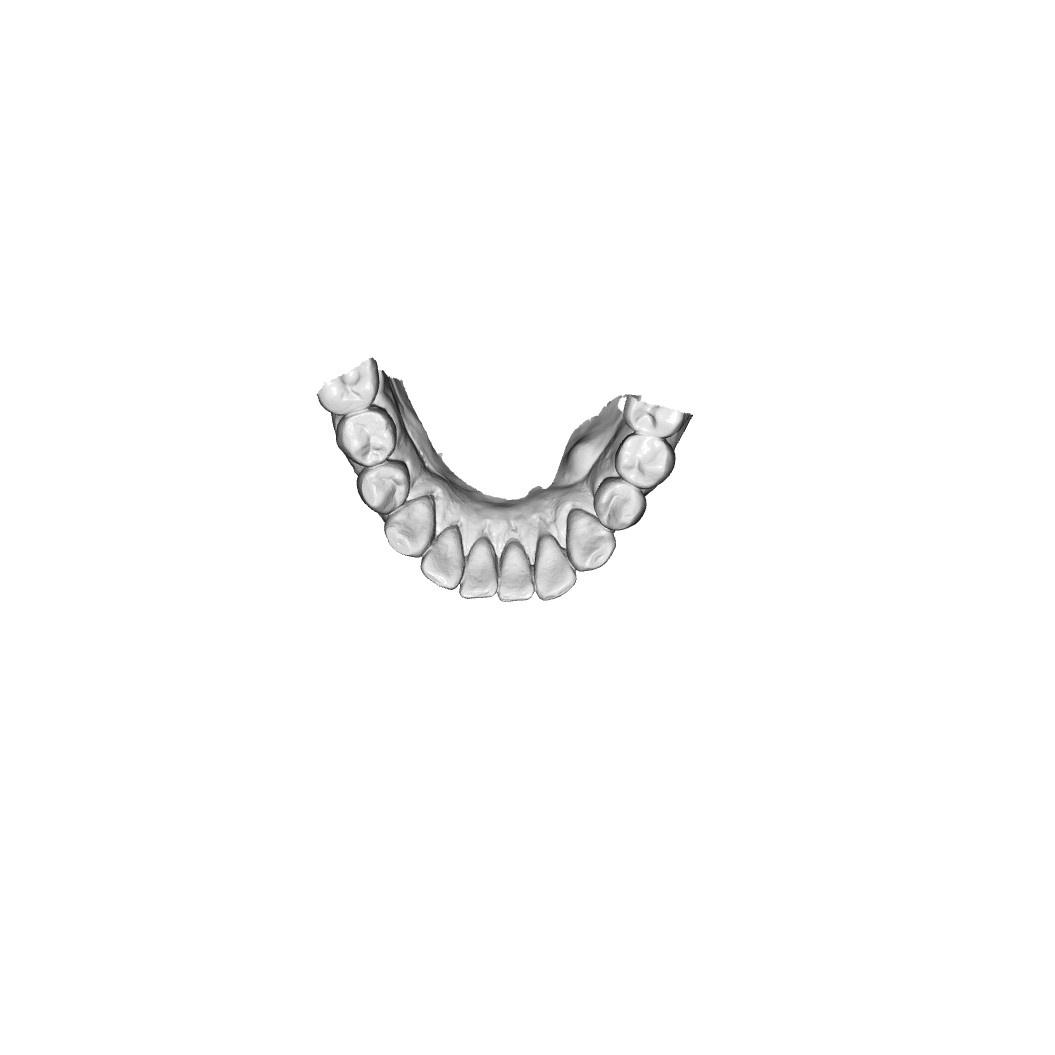canine: (384, 497, 436, 559), (566, 510, 615, 573)
incisor: (534, 533, 582, 602), (419, 527, 464, 589), (459, 539, 500, 601), (499, 539, 537, 605)
premolar: (337, 410, 397, 466), (616, 434, 675, 487), (354, 461, 406, 514), (594, 479, 646, 529)
